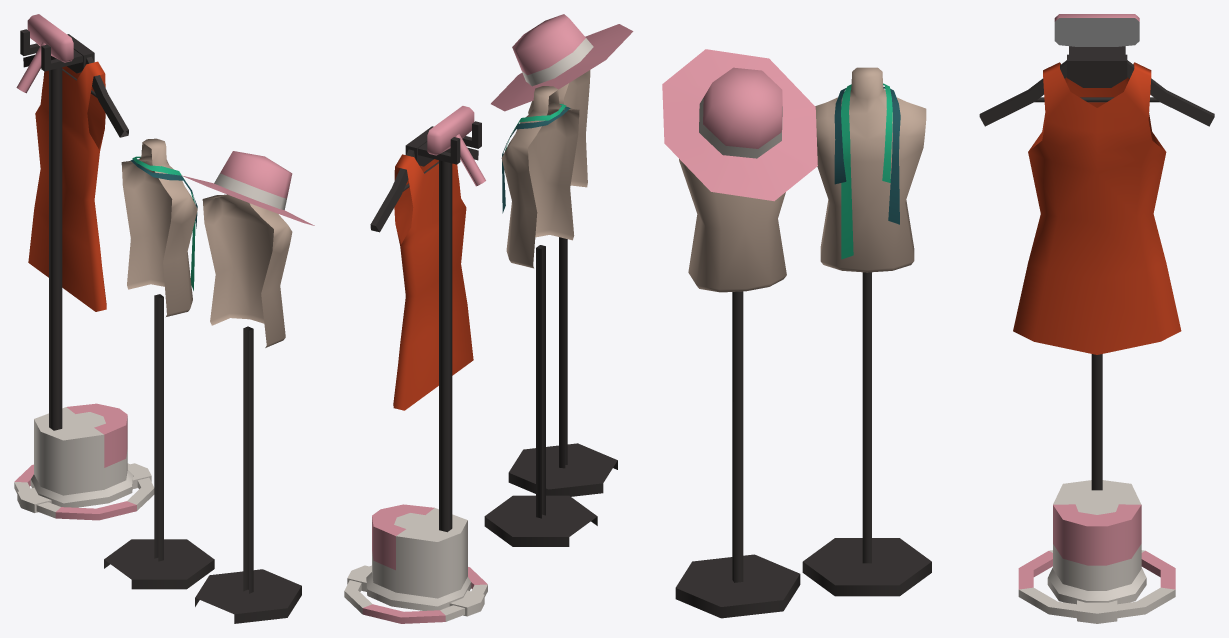
The model's file is interior_D_010.fbx.
3 renders of one model, left to right at view 1: azimuth 30°, elevation 25°; view 2: azimuth 150°, elevation 25°; view 3: azimuth 270°, elevation 25°, orthographic. The views are drawn at different scales.
Visible parts, largest first — view 1: interior_D_010; view 2: interior_D_010; view 3: interior_D_010.
Part boxes in pixels (x1,y1,x2,y2): interior_D_010: (14, 14, 314, 623); interior_D_010: (344, 14, 633, 623); interior_D_010: (662, 14, 1214, 623).
Bounding box in the file's own units: 40.95 × 140 × 126.
